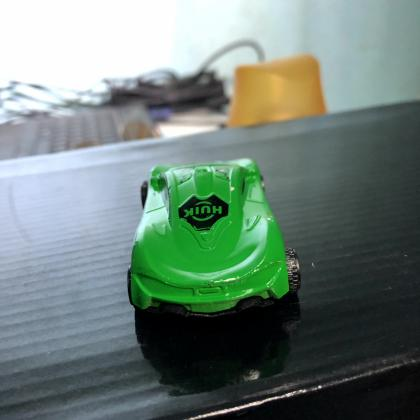Car: (128, 159, 299, 320)
